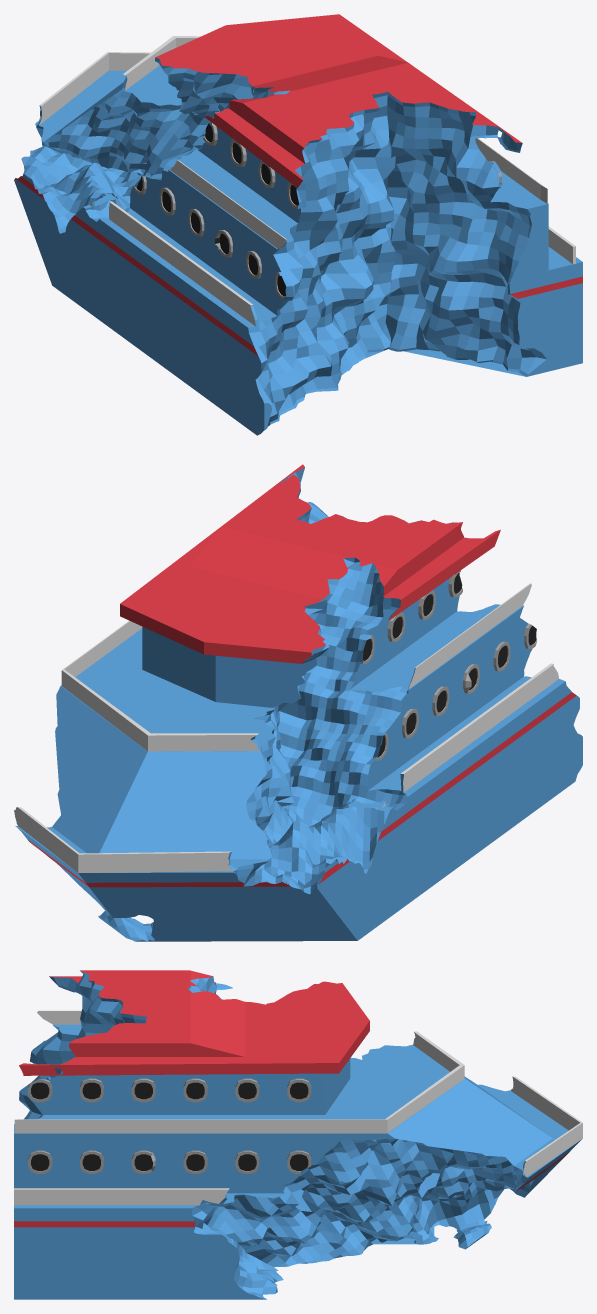
Rendered from shipwreckFront.fbx.
The picture shows the model from 3 angles, top to bottom: view 1: azimuth 30°, elevation 25°; view 2: azimuth 150°, elevation 25°; view 3: azimuth 270°, elevation 25°; orthographic projection. The views are drawn at different scales.
Parts seen in each view (by area): view 1: frontOfShip; view 2: frontOfShip; view 3: frontOfShip.
Boxes of the visible parts, x1=… form: frontOfShip: x1=14, y1=14, x2=582, y2=435; frontOfShip: x1=14, y1=464, x2=582, y2=941; frontOfShip: x1=14, y1=970, x2=582, y2=1299.
Size of the model in its own units: 314 by 233 by 540.
